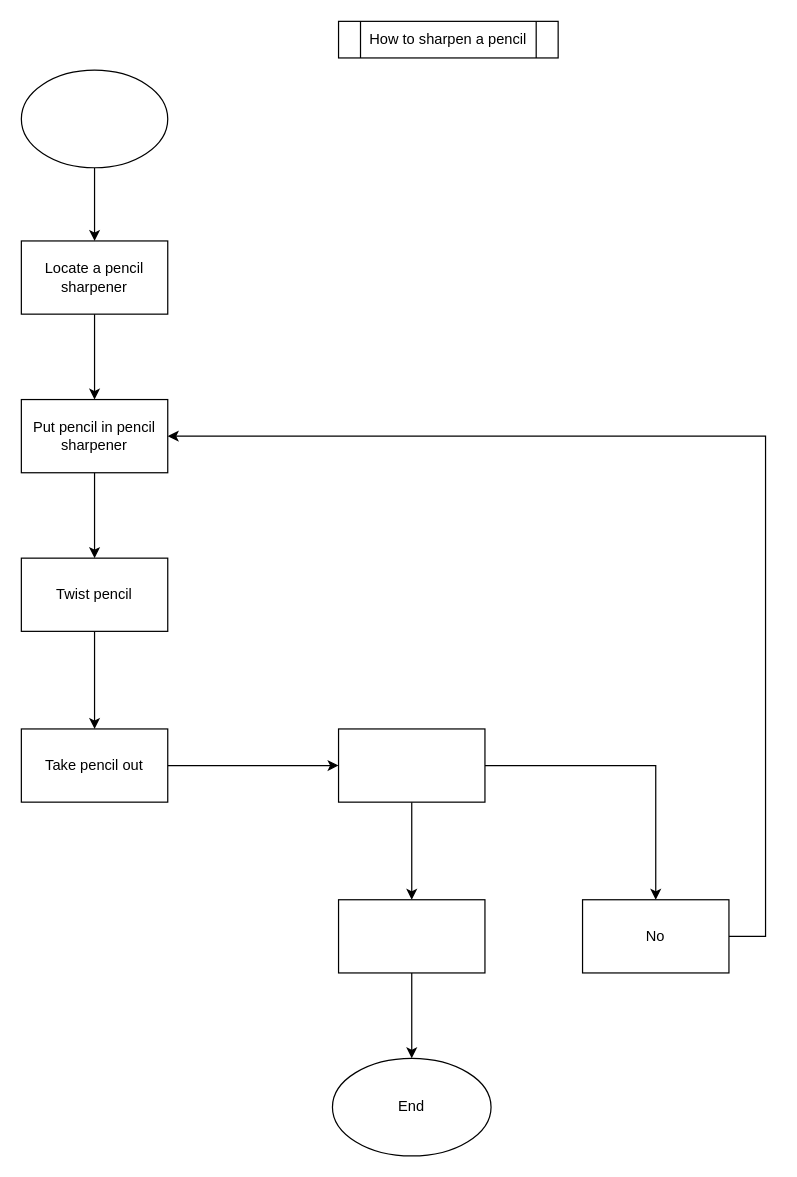
Some shapes in this 797 by 1177 pixel diagram are drawn without their labels. Here are the shapes that lost their labels. From the top down, the centre of each, then its label:
At (x=94, y=118): "Start".
At (x=411, y=765): "Check if sharpened".
At (x=411, y=936): "Yes".
